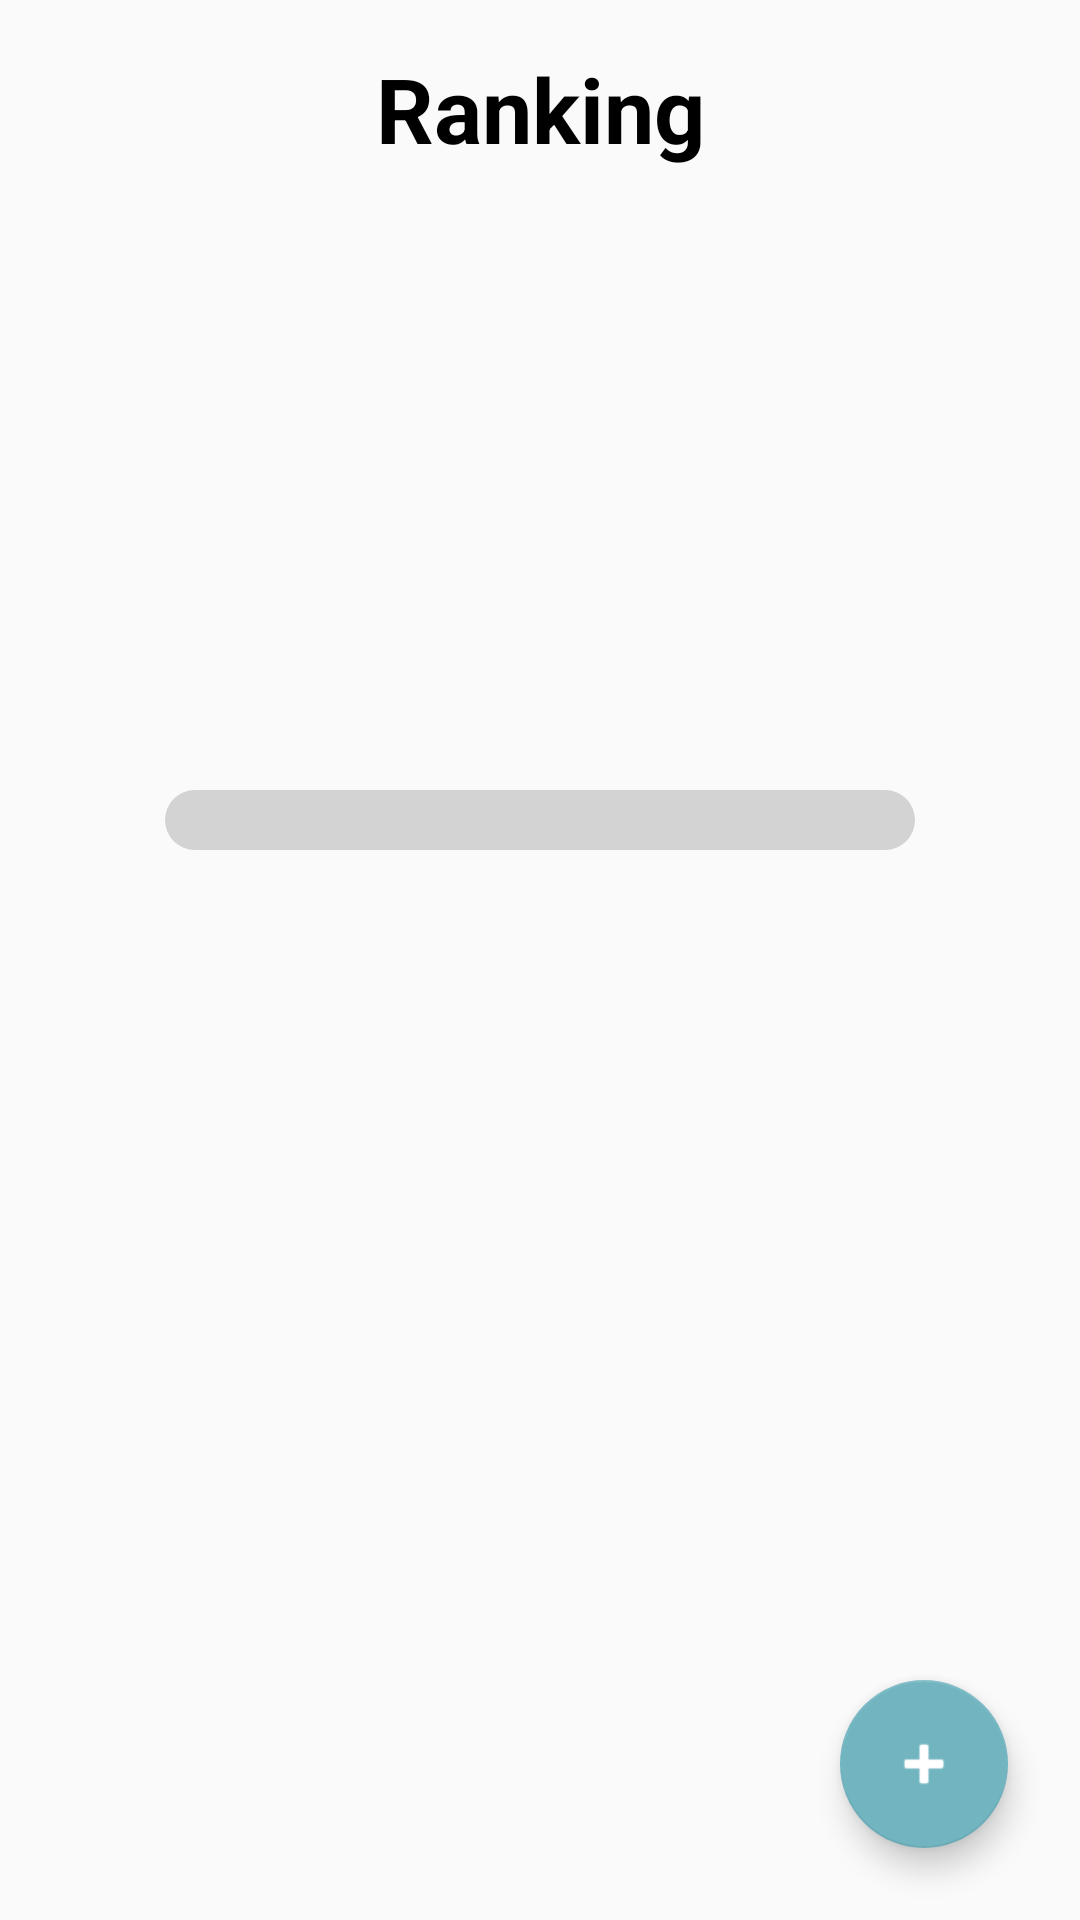

Screen size 1080w x 1920h. Icon name, then its center in pixels as point (x, y):
Añadir Amigo: point (924, 1764)
